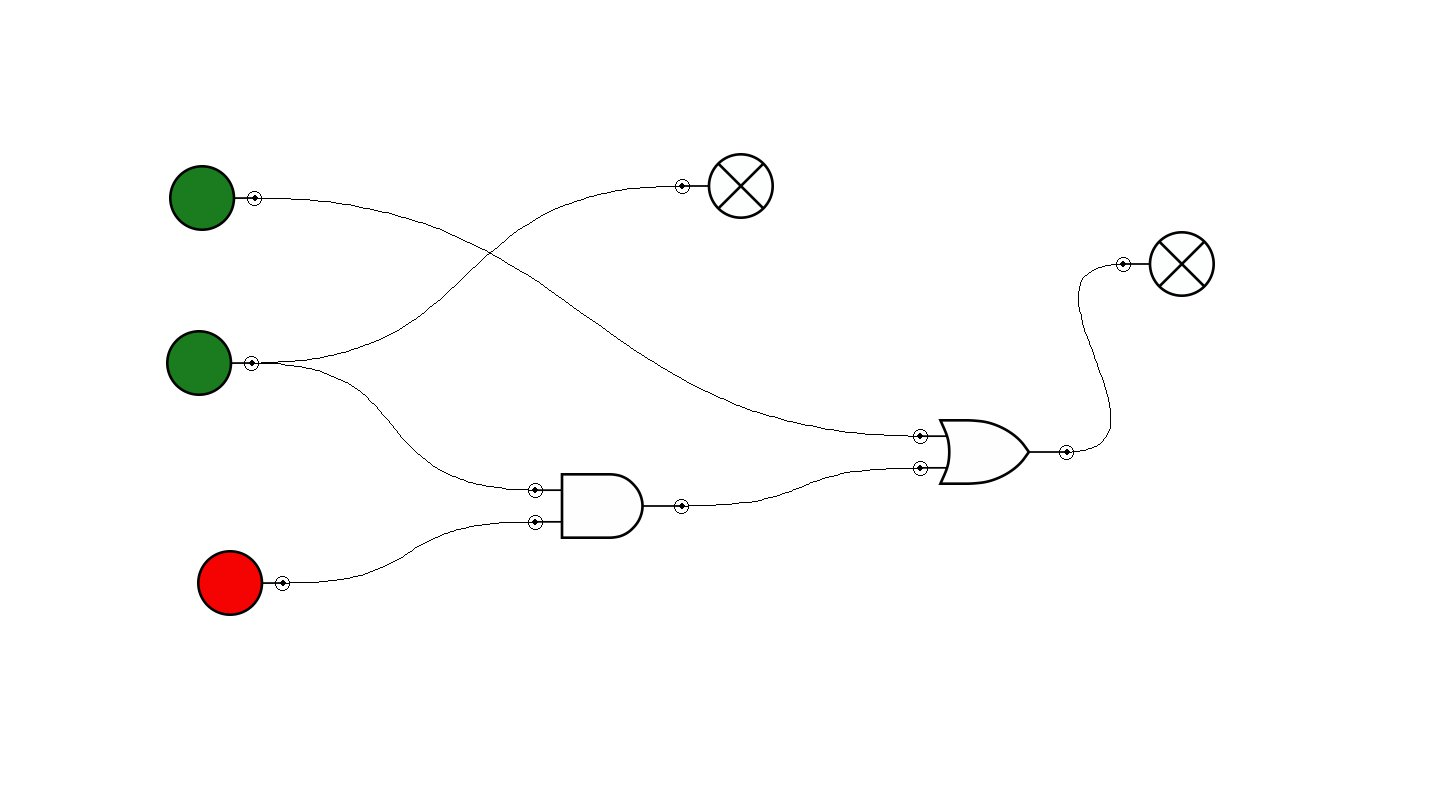and: (528, 473, 689, 539)
bulb: (675, 153, 774, 219), (1116, 231, 1215, 297)
or: (913, 419, 1074, 485)
switch_False: (197, 550, 290, 616)
switch_True: (166, 330, 259, 396), (169, 165, 262, 231)
